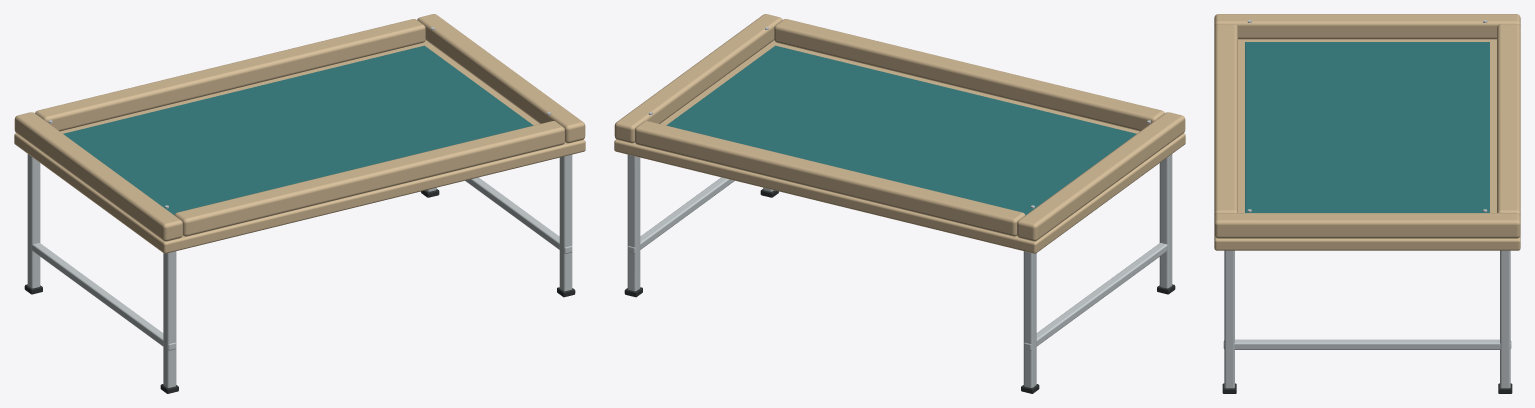
Rendered from tabletop-hobby-store-and-club-recessed-gaming-table-14e5aafd__31566.glb.
3 renders of one model, left to right at view 1: azimuth 30°, elevation 25°; view 2: azimuth 150°, elevation 25°; view 3: azimuth 270°, elevation 25°, orthographic.
Visible parts, largest first — view 1: recessed-gaming-table; view 2: recessed-gaming-table; view 3: recessed-gaming-table.
Boxes of the visible parts, x1=… form: recessed-gaming-table: x1=14, y1=14, x2=585, y2=393; recessed-gaming-table: x1=614, y1=14, x2=1185, y2=393; recessed-gaming-table: x1=1214, y1=14, x2=1520, y2=393.
Bounding box in the file's own units: 2.1 × 0.833 × 1.3.
